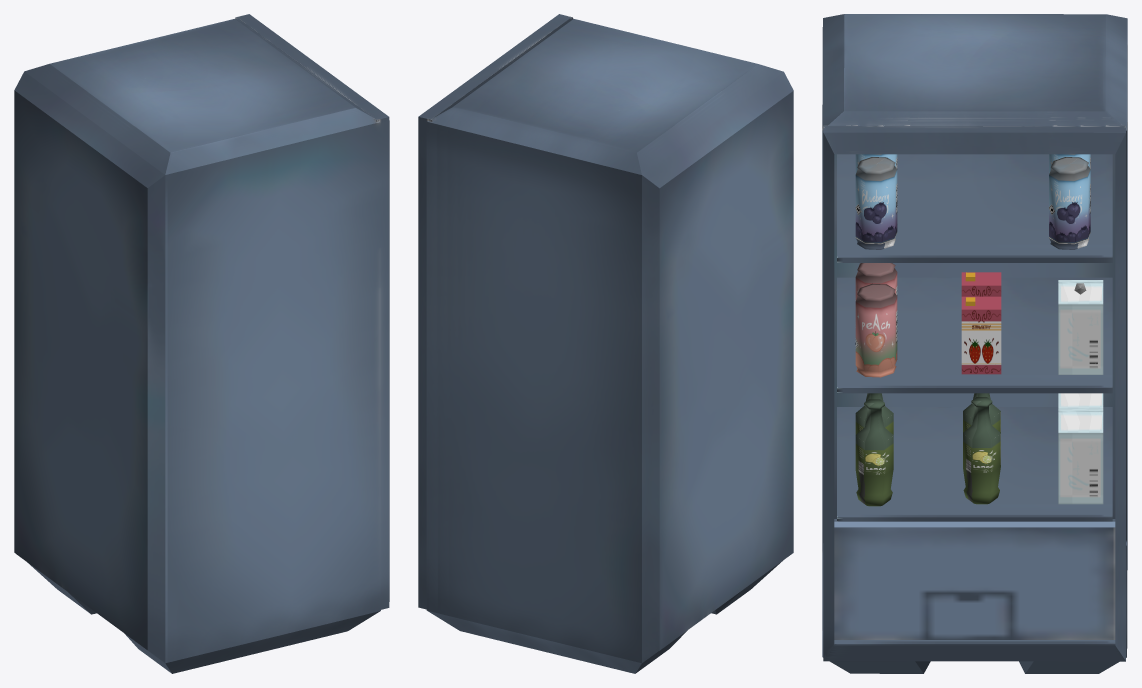
File: CityKit_DrinkMachine.fbx
3 renders of one model, left to right at view 1: azimuth 30°, elevation 25°; view 2: azimuth 150°, elevation 25°; view 3: azimuth 270°, elevation 25°, orthographic. The views are drawn at different scales.
Parts seen in each view (by area): view 1: DrinkMachine; view 2: DrinkMachine; view 3: DrinkMachine.
Part boxes in pixels (x1,y1,x2,y2): DrinkMachine: [14, 14, 389, 673]; DrinkMachine: [418, 14, 793, 673]; DrinkMachine: [822, 14, 1127, 673].
Bounding box in the file's own units: 252 × 518 × 254.
Materials: 1 (1 with a texture image).
